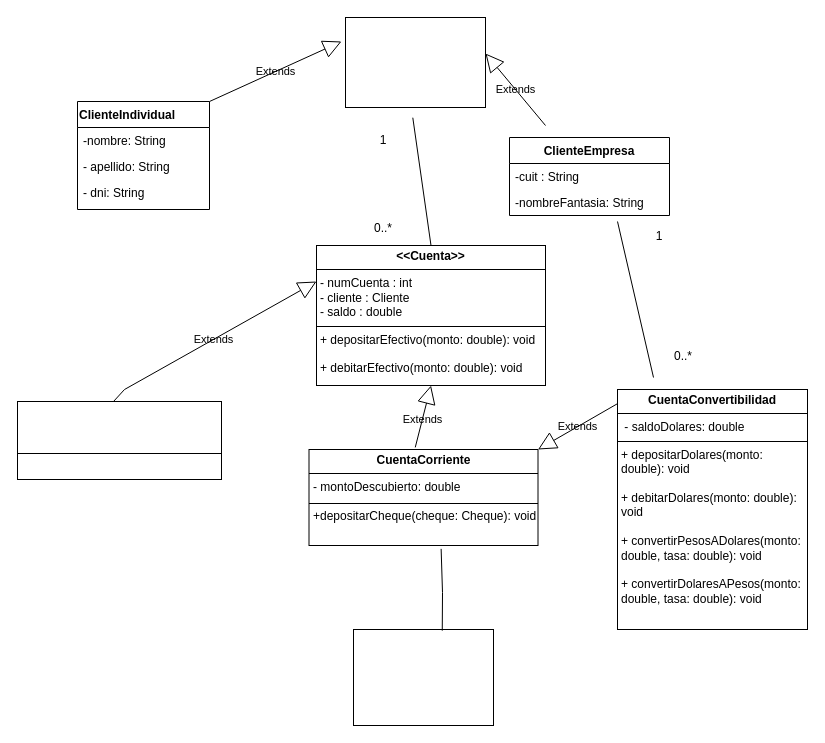
This 825x743 diagram has some shape labels left out. Each missing label, with the centre of its shape:
"<<Cliente>> - numero: int" goes at (x=415, y=62).
"CajaAhorro - tasaInteres : double + cobrarInteres( ) : void" goes at (x=119, y=440).
"Cheque - monto: double - bancoEmisor: String - fechaPago: LocalDate" goes at (x=423, y=677).
